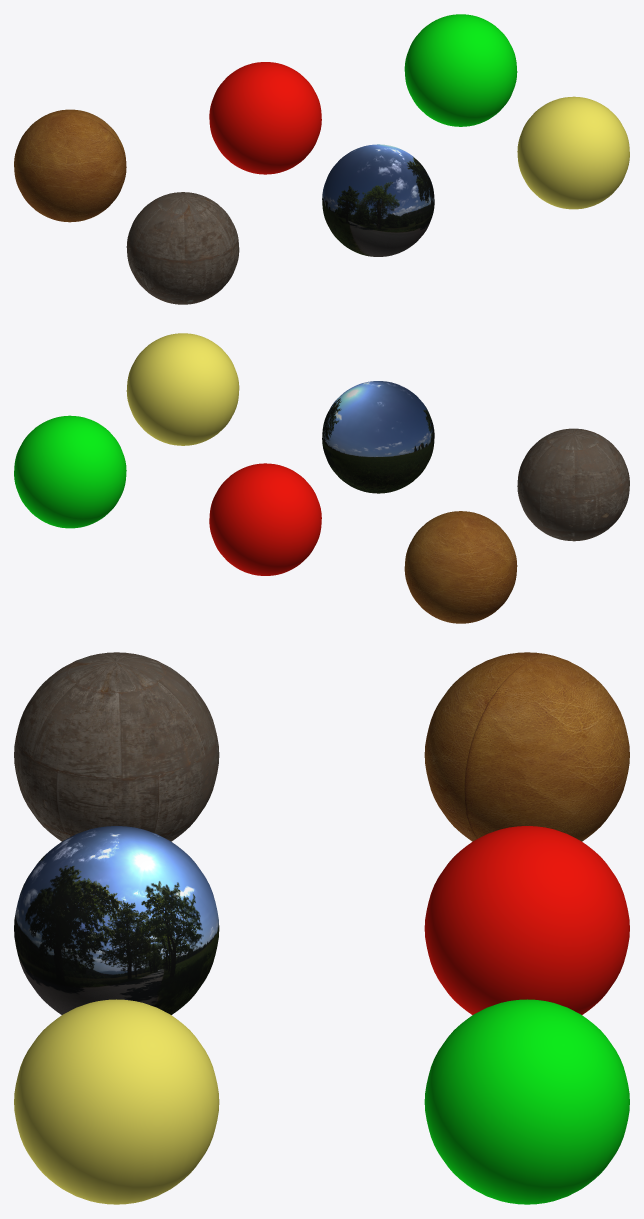
The model's file is pbr.glb.
3 renders of one model, top to bottom at view 1: azimuth 30°, elevation 25°; view 2: azimuth 150°, elevation 25°; view 3: azimuth 270°, elevation 25°, orthographic. The views are drawn at different scales.
Visible parts, largest first — view 1: Sphere, Sphere.002, Sphere.003, Sphere.004, Sphere.005, Sphere.006; view 2: Sphere, Sphere.002, Sphere.003, Sphere.004, Sphere.005, Sphere.006; view 3: Sphere.002, Sphere.006, Sphere, Sphere.003, Sphere.004, Sphere.005.
Part boxes in pixels (left/top/right/bottom): Sphere: left=322, top=144, right=434, bottom=256; Sphere.002: left=517, top=96, right=629, bottom=209; Sphere.003: left=126, top=192, right=239, bottom=304; Sphere.004: left=209, top=62, right=321, bottom=174; Sphere.005: left=14, top=109, right=126, bottom=222; Sphere.006: left=404, top=14, right=517, bottom=126; Sphere: left=322, top=381, right=434, bottom=493; Sphere.002: left=126, top=333, right=239, bottom=445; Sphere.003: left=517, top=428, right=629, bottom=541; Sphere.004: left=209, top=463, right=321, bottom=575; Sphere.005: left=404, top=511, right=517, bottom=623; Sphere.006: left=14, top=415, right=126, bottom=528; Sphere.002: left=14, top=999, right=219, bottom=1204; Sphere.006: left=424, top=999, right=629, bottom=1204; Sphere: left=14, top=826, right=219, bottom=1014; Sphere.003: left=14, top=652, right=219, bottom=841; Sphere.004: left=424, top=826, right=629, bottom=1014; Sphere.005: left=424, top=652, right=629, bottom=841.
Size of the model in its own units: 5 by 1 by 3.
6 materials, 3 textured.
